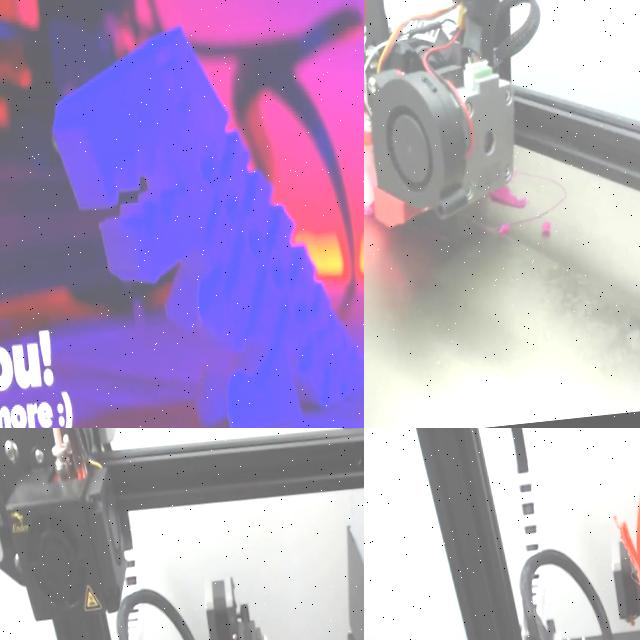spaghetti: (489, 185, 527, 208), (497, 222, 510, 236), (541, 221, 550, 236)
